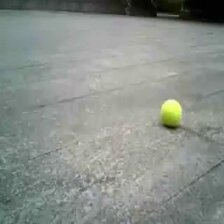tennis: (160, 100, 182, 128)
